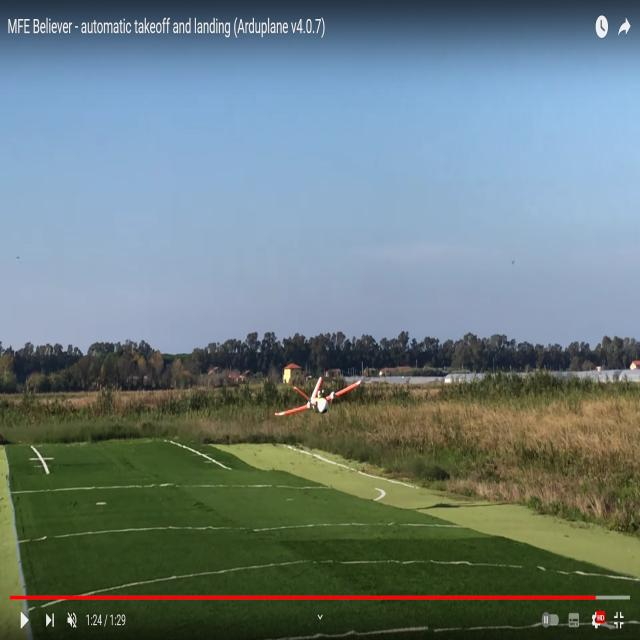iha: (307, 376, 328, 421)
